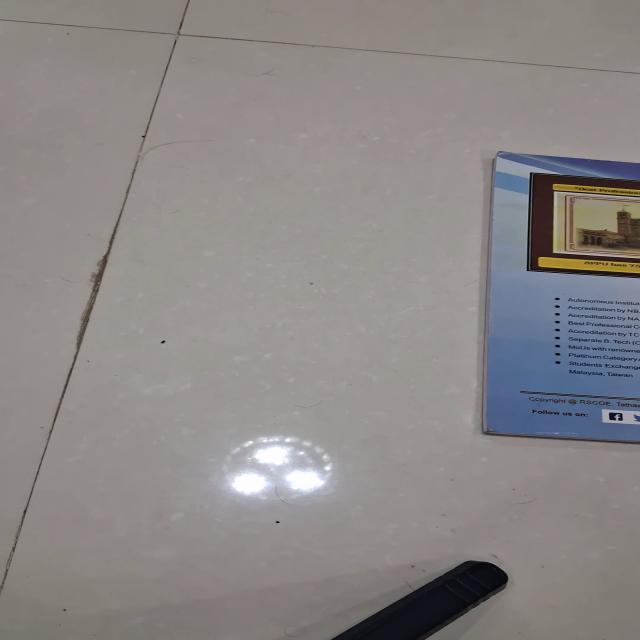paper: (481, 150, 638, 444)
